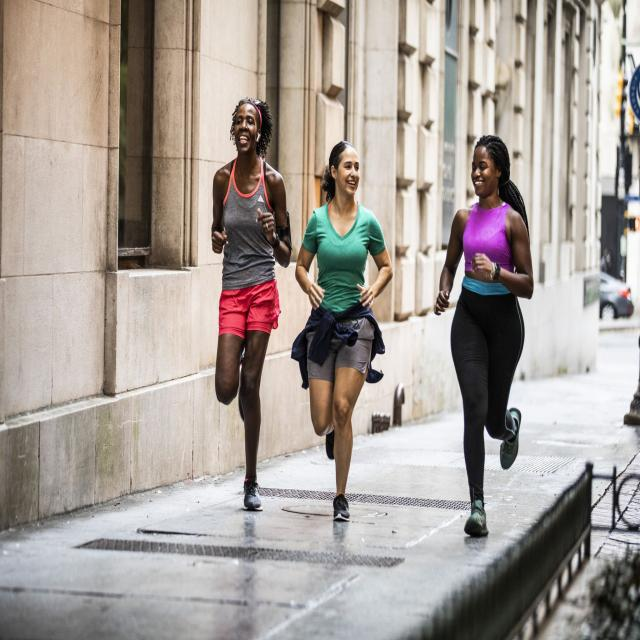Person: (433, 134, 533, 535), (295, 140, 393, 521), (210, 99, 292, 508)
